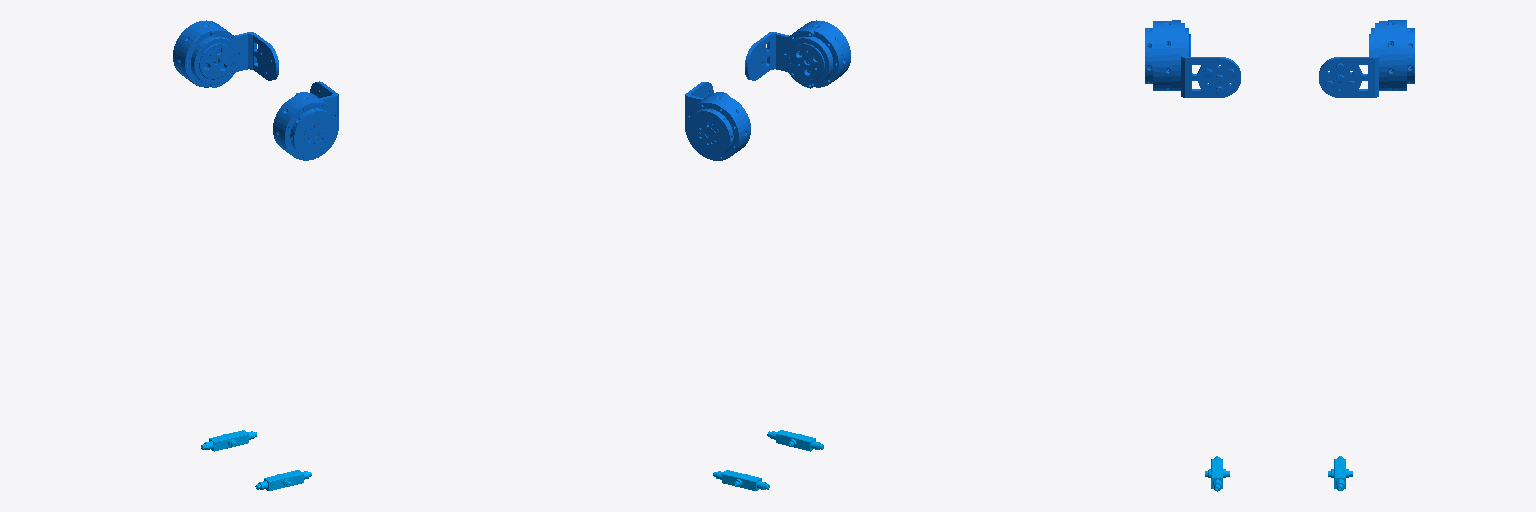
The robot description file, URDF, robot "urdf":
<?xml version="1.0" encoding="utf-8"?>
<!-- This URDF was automatically created by SolidWorks to URDF Exporter! Originally created by [author] ([email redacted]) 
     Commit Version: 1.6.0-4-g7f85cfe  Build Version: 1.6.7995.38578
     For more information, please see http://wiki.ros.org/sw_urdf_exporter -->
<robot
  name="urdf">
  <link
    name="base_link">
    <inertial>
      <origin
        xyz="0.057859 0.001501 -0.041397"
        rpy="0 0 0" />
      <mass
        value="2.5758" />
      <inertia
        ixx="0.0092346"
        ixy="6.9354E-14"
        ixz="-6.0236E-06"
        iyy="0.0022342"
        iyz="-1.6085E-08"
        izz="0.0081961" />
    </inertial>
    <visual>
      <origin
        xyz="0 0 0"
        rpy="0 -1.5708 0" />
      <geometry>
        <mesh
          filename="../meshes/base_link.STL" />
      </geometry>
      <material
        name="">
        <color
          rgba="0 0.7 1 1" />
      </material>
    </visual>
    <collision>
      <origin
        xyz="0 0 0"
        rpy="0 0 0" />
      <geometry>
        <mesh
          filename="../meshes/base_link.STL" />
      </geometry>
    </collision>
  </link>
  <link
    name="right_hip_roll">
    <inertial>
      <origin
        xyz="2.9122E-06 0.054374 -0.010038"
        rpy="0 0 0" />
      <mass
        value="0.59683" />
      <inertia
        ixx="0.00034663"
        ixy="1.1374E-08"
        ixz="4.6368E-10"
        iyy="0.0005471"
        iyz="-2.4987E-05"
        izz="0.0003578" />
    </inertial>
    <visual>
      <origin
        xyz="0 0 0"
        rpy="0 0 0" />
      <geometry>
        <mesh
          filename="../meshes/right_hip_roll.STL" />
      </geometry>
      <material
        name="">
        <color
          rgba="0.1 0.5 0.9 1" />
      </material>
    </visual>
    <collision>
      <origin
        xyz="0 0 0"
        rpy="0 0 0" />
      <geometry>
        <mesh
          filename="../meshes/right_hip_roll.STL" />
      </geometry>
    </collision>
  </link>
  <joint
    name="right_hip_roll_joint"
    type="revolute">
    <origin
      xyz="0 0.0815 0"
      rpy="0 -1.57 0" />
    <parent
      link="base_link" />
    <child
      link="right_hip_roll" />
    <axis
      xyz="0 0 1" />
    <limit
      lower="-2"
      upper="2"
      effort="100"
      velocity="50" />
  </joint>
  <link
    name="right_hip_pitch">
    <inertial>
      <origin
        xyz="-0.11354 -0.0015123 -1.6386E-05"
        rpy="0 0 0" />
      <mass
        value="1.6182" />
      <inertia
        ixx="0.0011021"
        ixy="-5.7248E-06"
        ixz="-1.9836E-08"
        iyy="0.0021829"
        iyz="1.6084E-08"
        izz="0.0013784" />
    </inertial>
    <visual>
      <origin
        xyz="0 0 0"
        rpy="0 0 0" />
      <geometry>
        <mesh
          filename="../meshes/right_hip_pitch.STL" />
      </geometry>
      <material
        name="">
        <color
          rgba="0 0.7 1 1" />
      </material>
    </visual>
    <collision>
      <origin
        xyz="0 0 0"
        rpy="0 0 0" />
      <geometry>
        <mesh
          filename="../meshes/right_hip_pitch.STL" />
      </geometry>
    </collision>
  </link>
  <joint
    name="right_hip_pitch_joint"
    type="revolute">
    <origin
      xyz="0 0 0"
      rpy="0 0 0" />
    <parent
      link="right_hip_roll" />
    <child
      link="right_hip_pitch" />
    <axis
      xyz="0 1 0" />
    <limit
      lower="-2"
      upper="2"
      effort="100"
      velocity="50" />
  </joint>
  <link
    name="right_knee_pitch">
    <inertial>
      <origin
        xyz="-0.1367 1.3619E-06 1.9168E-08"
        rpy="0 0 0" />
      <mass
        value="0.24651" />
      <inertia
        ixx="5.0068E-05"
        ixy="1.6384E-11"
        ixz="1.6187E-10"
        iyy="0.00053"
        iyz="3.0738E-11"
        izz="0.00052582" />
    </inertial>
    <visual>
      <origin
        xyz="0 0 0"
        rpy="0 0 0" />
      <geometry>
        <mesh
          filename="../meshes/right_knee_pitch.STL" />
      </geometry>
      <material
        name="">
        <color
          rgba="0.1 0.5 0.9 1" />
      </material>
    </visual>
    <collision>
      <origin
        xyz="0 0 0"
        rpy="0 0 0" />
      <geometry>
        <mesh
          filename="../meshes/right_knee_pitch.STL" />
      </geometry>
    </collision>
  </link>
  <joint
    name="right_knee_pitch_joint"
    type="revolute">
    <origin
      xyz="-0.3 0 0"
      rpy="0 0 0" />
    <parent
      link="right_hip_pitch" />
    <child
      link="right_knee_pitch" />
    <axis
      xyz="0 1 0" />
    <limit
      lower="-2"
      upper="2"
      effort="100"
      velocity="50" />
  </joint>
  <link
    name="right_ankle_pitch">
    <inertial>
      <origin
        xyz="9.9075E-11 -5.5733E-14 4.2181E-11"
        rpy="0 0 0" />
      <mass
        value="0.019465" />
      <inertia
        ixx="9.1427E-06"
        ixy="-5.0568E-22"
        ixz="2.5241E-17"
        iyy="8.9831E-06"
        iyz="-4.2502E-20"
        izz="8.8017E-07" />
    </inertial>
    <visual>
      <origin
        xyz="0 0 0"
        rpy="0 0 0" />
      <geometry>
        <mesh
          filename="../meshes/right_ankle_pitch.STL" />
      </geometry>
      <material
        name="">
        <color
          rgba="0 0.7 1 1" />
      </material>
    </visual>
    <collision>
      <origin
        xyz="0 0 0"
        rpy="0 0 0" />
      <geometry>
        <mesh
          filename="../meshes/right_ankle_pitch.STL" />
      </geometry>
    </collision>
  </link>
  <joint
    name="right_ankle_pitch_joint"
    type="revolute">
    <origin
      xyz="-0.311 0 0"
      rpy="0 0 0" />
    <parent
      link="right_knee_pitch" />
    <child
      link="right_ankle_pitch" />
    <axis
      xyz="0 1 0" />
    <limit
      lower="-2"
      upper="2"
      effort="100"
      velocity="50" />
  </joint>
  <link
    name="right_ankle_roll">
    <inertial>
      <origin
        xyz="-0.031487 -5.8287E-14 0.02571"
        rpy="0 0 0" />
      <mass
        value="0.27177" />
      <inertia
        ixx="0.00153"
        ixy="9.4808E-19"
        ixz="3.9706E-15"
        iyy="0.0013044"
        iyz="-5.6928E-18"
        izz="0.00023021" />
    </inertial>
    <visual>
      <origin
        xyz="0 0 0"
        rpy="0 0 0" />
      <geometry>
        <mesh
          filename="../meshes/right_ankle_roll.STL" />
      </geometry>
      <material
        name="">
        <color
          rgba="0 0 0.7 1" />
      </material>
    </visual>
    <collision>
      <origin
        xyz="0 0 0"
        rpy="0 0 0" />
      <geometry>
        <mesh
          filename="../meshes/right_ankle_roll.STL" />
      </geometry>
    </collision>
  </link>
  <joint
    name="right_ankle_roll_joint"
    type="revolute">
    <origin
      xyz="0 0 0"
      rpy="0 0 0" />
    <parent
      link="right_ankle_pitch" />
    <child
      link="right_ankle_roll" />
    <axis
      xyz="0 0 1" />
    <limit
      lower="-2"
      upper="2"
      effort="100"
      velocity="50" />
  </joint>
  <link
    name="left_hip_roll">
    <inertial>
      <origin
        xyz="-8.4201E-06 -0.054374 -0.010011"
        rpy="0 0 0" />
      <mass
        value="0.59683" />
      <inertia
        ixx="0.00034666"
        ixy="-1.6084E-08"
        ixz="-1.9812E-08"
        iyy="0.0005471"
        iyz="2.4998E-05"
        izz="0.00035778" />
    </inertial>
    <visual>
      <origin
        xyz="0 0 0"
        rpy="0 -1.5708 0" />
      <geometry>
        <mesh
          filename="../meshes/left_hip_roll.STL" />
      </geometry>
      <material
        name="">
        <color
          rgba="0.1 0.5 0.9 1" />
      </material>
    </visual>
    <collision>
      <origin
        xyz="0 0 0"
        rpy="0 0 0" />
      <geometry>
        <mesh
          filename="../meshes/left_hip_roll.STL" />
      </geometry>
    </collision>
  </link>
  <joint
    name="left_hip_roll_joint"
    type="revolute">
    <origin
      xyz="0 -0.0785 0"
      rpy="0 0 0" />
    <parent
      link="base_link" />
    <child
      link="left_hip_roll" />
    <axis
      xyz="1 0 0" />
    <limit
      lower="-2"
      upper="2"
      effort="100"
      velocity="50" />
  </joint>
  <link
    name="left_hip_pitch">
    <inertial>
      <origin
        xyz="-0.11317 -0.0014447 1.9E-05"
        rpy="0 0 0" />
      <mass
        value="1.6236" />
      <inertia
        ixx="0.0011021"
        ixy="5.7134E-06"
        ixz="-5.0662E-10"
        iyy="0.0021829"
        iyz="1.1372E-08"
        izz="0.0013785" />
    </inertial>
    <visual>
      <origin
        xyz="0 0 0"
        rpy="0 0 0" />
      <geometry>
        <mesh
          filename="../meshes/left_hip_pitch.STL" />
      </geometry>
      <material
        name="">
        <color
          rgba="0 0.7 1 1" />
      </material>
    </visual>
    <collision>
      <origin
        xyz="0 0 0"
        rpy="0 0 0" />
      <geometry>
        <mesh
          filename="../meshes/left_hip_pitch.STL" />
      </geometry>
    </collision>
  </link>
  <joint
    name="left_hip_pitch_joint"
    type="revolute">
    <origin
      xyz="0 0 0"
      rpy="0 -1.5708 0" />
    <parent
      link="left_hip_roll" />
    <child
      link="left_hip_pitch" />
    <axis
      xyz="0 1 0" />
    <limit
      lower="-2"
      upper="2"
      effort="100"
      velocity="50" />
  </joint>
  <link
    name="left_knee_pitch">
    <inertial>
      <origin
        xyz="-0.1367 -0.0029986 2.6673E-08"
        rpy="0 0 0" />
      <mass
        value="0.24651" />
      <inertia
        ixx="5.0068E-05"
        ixy="1.6384E-11"
        ixz="1.6188E-10"
        iyy="0.00053"
        iyz="3.0738E-11"
        izz="0.00052582" />
    </inertial>
    <visual>
      <origin
        xyz="0 0 0"
        rpy="0 0 0" />
      <geometry>
        <mesh
          filename="../meshes/left_knee_pitch.STL" />
      </geometry>
      <material
        name="">
        <color
          rgba="0.1 0.5 0.9 1" />
      </material>
    </visual>
    <collision>
      <origin
        xyz="0 0 0"
        rpy="0 0 0" />
      <geometry>
        <mesh
          filename="../meshes/left_knee_pitch.STL" />
      </geometry>
    </collision>
  </link>
  <joint
    name="left_knee_pitch_joint"
    type="revolute">
    <origin
      xyz="-0.3 0 0"
      rpy="0 0 0" />
    <parent
      link="left_hip_pitch" />
    <child
      link="left_knee_pitch" />
    <axis
      xyz="0 1 0" />
    <limit
      lower="-2"
      upper="2"
      effort="100"
      velocity="50" />
  </joint>
  <link
    name="left_ankle_pitch">
    <inertial>
      <origin
        xyz="-3.4062E-13 -4.2577E-14 -1.3267E-13"
        rpy="0 0 0" />
      <mass
        value="0.019465" />
      <inertia
        ixx="9.1427E-06"
        ixy="1.2896E-20"
        ixz="-2.5657E-17"
        iyy="8.9831E-06"
        iyz="3.7893E-21"
        izz="8.8017E-07" />
    </inertial>
    <visual>
      <origin
        xyz="0 0 0"
        rpy="0 0 0" />
      <geometry>
        <mesh
          filename="../meshes/left_ankle_pitch.STL" />
      </geometry>
      <material
        name="">
        <color
          rgba="0 0.7 1 1" />
      </material>
    </visual>
    <collision>
      <origin
        xyz="0 0 0"
        rpy="0 0 0" />
      <geometry>
        <mesh
          filename="../meshes/left_ankle_pitch.STL" />
      </geometry>
    </collision>
  </link>
  <joint
    name="left_ankle_pitch_joint"
    type="revolute">
    <origin
      xyz="-0.311 -0.003 0"
      rpy="0 0 0" />
    <parent
      link="left_knee_pitch" />
    <child
      link="left_ankle_pitch" />
    <axis
      xyz="0 1 0" />
    <limit
      lower="-2"
      upper="2"
      effort="100"
      velocity="50" />
  </joint>
  <link
    name="left_ankle_roll">
    <inertial>
      <origin
        xyz="-0.031487 -4.5131E-14 0.02571"
        rpy="0 0 0" />
      <mass
        value="0.27177" />
      <inertia
        ixx="0.00153"
        ixy="1.8286E-17"
        ixz="-4.0381E-15"
        iyy="0.0013044"
        iyz="-1.1095E-18"
        izz="0.00023021" />
    </inertial>
    <visual>
      <origin
        xyz="0 0 0"
        rpy="0 0 0" />
      <geometry>
        <mesh
          filename="../meshes/left_ankle_roll.STL" />
      </geometry>
      <material
        name="">
        <color
          rgba="0 0 0.7 1" />
      </material>
    </visual>
    <collision>
      <origin
        xyz="0 0 0"
        rpy="0 0 0" />
      <geometry>
        <mesh
          filename="../meshes/left_ankle_roll.STL" />
      </geometry>
    </collision>
  </link>
  <joint
    name="left_ankle_roll_joint"
    type="revolute">
    <origin
      xyz="0 0 0"
      rpy="0 0 0" />
    <parent
      link="left_ankle_pitch" />
    <child
      link="left_ankle_roll" />
    <axis
      xyz="0 0 1" />
    <limit
      lower="-2"
      upper="2"
      effort="100"
      velocity="50" />
  </joint>
</robot>

--- Facts derived from the render (not from the file) ---
The picture shows the robot from 3 angles, left to right: view 1: azimuth 30°, elevation 25°; view 2: azimuth 150°, elevation 25°; view 3: azimuth 270°, elevation 25°; orthographic projection.
Model urdf with 11 links and 10 joints (10 revolute), rooted at base_link, posed every joint at zero.
Links seen in each view (by area): view 1: right_hip_roll, left_hip_roll, right_ankle_pitch, left_ankle_pitch; view 2: left_hip_roll, right_hip_roll, right_ankle_pitch, left_ankle_pitch; view 3: right_hip_roll, left_hip_roll.
Boxes of the visible links, x1,y1,x2,y2 form: right_hip_roll: (173,20,278,87); left_hip_roll: (273,81,338,160); right_ankle_pitch: (201,430,256,451); left_ankle_pitch: (255,470,311,490); left_hip_roll: (745,20,850,88); right_hip_roll: (685,82,750,160); right_ankle_pitch: (713,470,769,490); left_ankle_pitch: (767,430,823,451); right_hip_roll: (1319,20,1414,97); left_hip_roll: (1145,20,1240,97).
Bounding box of the posed robot: 0.1205 × 0.3584 × 0.666 m (x, y, z).
Meshes: 11 distinct files referenced, 4 mesh visuals loaded (4 binary STL); not drawn: 7 (reference not matched to a file when rendering).